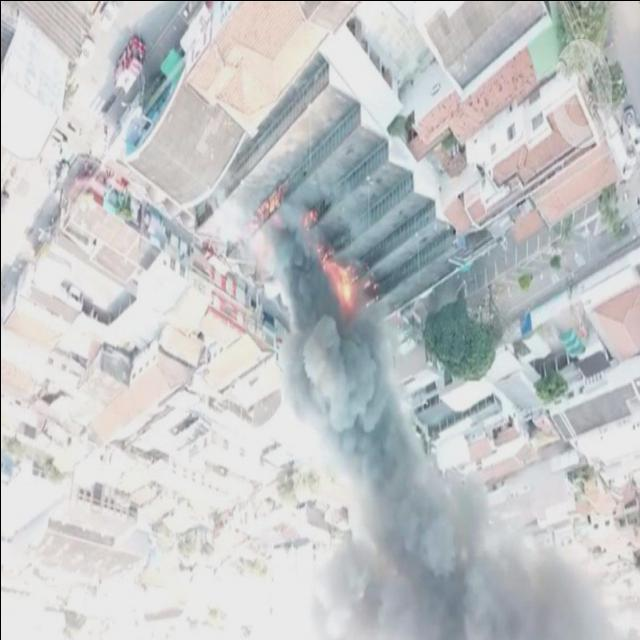Fire: (322, 264, 352, 304)
